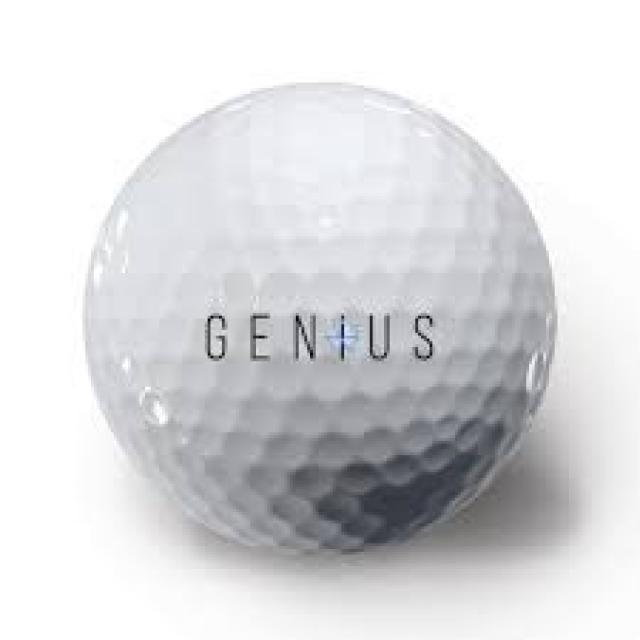golfball: (57, 71, 640, 575)
